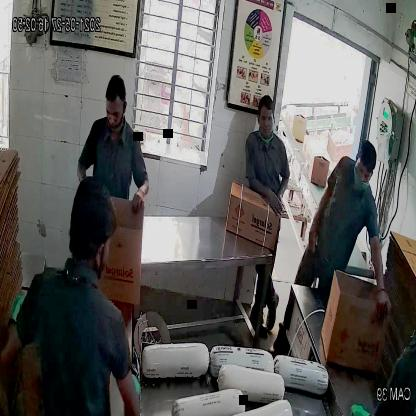no_goggles: (351, 156, 377, 183), (104, 103, 128, 124), (256, 112, 277, 130)
